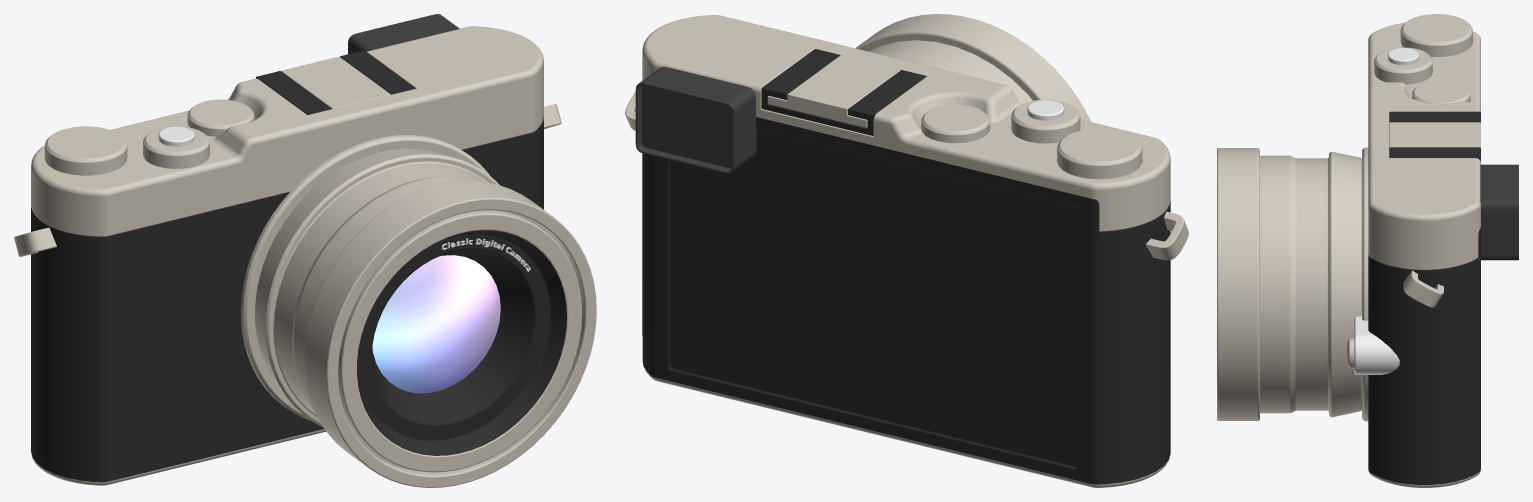
The picture shows the model from 3 angles, left to right: view 1: azimuth 30°, elevation 25°; view 2: azimuth 150°, elevation 25°; view 3: azimuth 270°, elevation 25°; orthographic projection. The views are drawn at different scales.
Visible parts, largest first — view 1: classic_camera; view 2: classic_camera; view 3: classic_camera.
Boxes of the visible parts, x1,y1,x2,y2 form: classic_camera: [14, 14, 596, 487]; classic_camera: [625, 14, 1188, 487]; classic_camera: [1217, 14, 1518, 487].
Bounding box in the file's own units: 0.1065 × 0.0605 × 0.0596.
